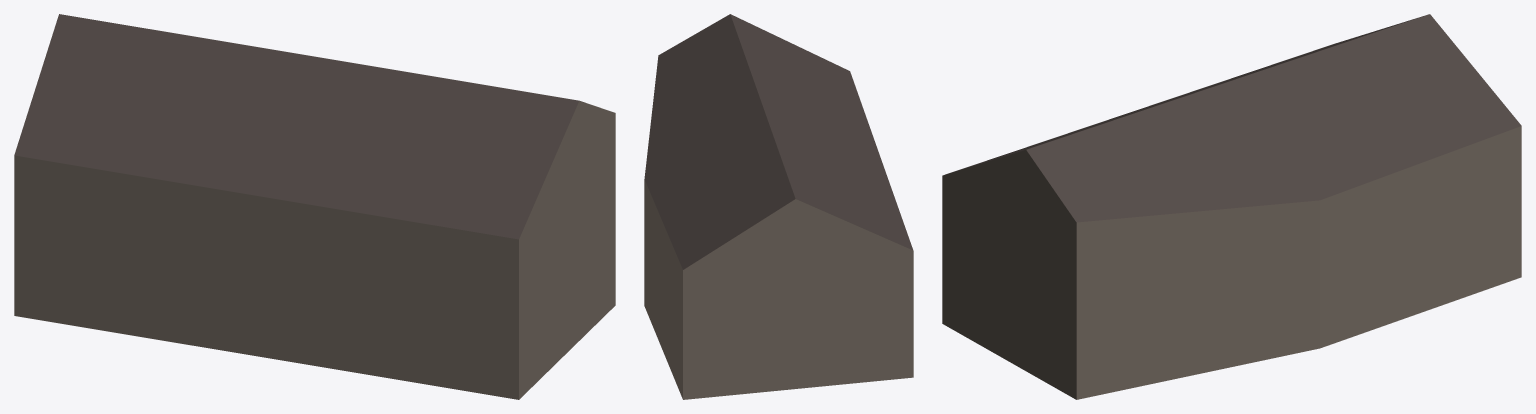
3 renders of one model, left to right at view 1: azimuth 30°, elevation 25°; view 2: azimuth 150°, elevation 25°; view 3: azimuth 270°, elevation 25°, orthographic. The views are drawn at different scales.
Visible parts, largest first — view 1: HP-w1515076944; view 2: HP-w1515076944; view 3: HP-w1515076944.
Boxes of the visible parts, x1,y1,x2,y2 form: HP-w1515076944: (14,14,615,399); HP-w1515076944: (644,14,913,399); HP-w1515076944: (942,14,1521,399).
Size of the model in its own units: 18.08 by 8.98 by 21.29.
